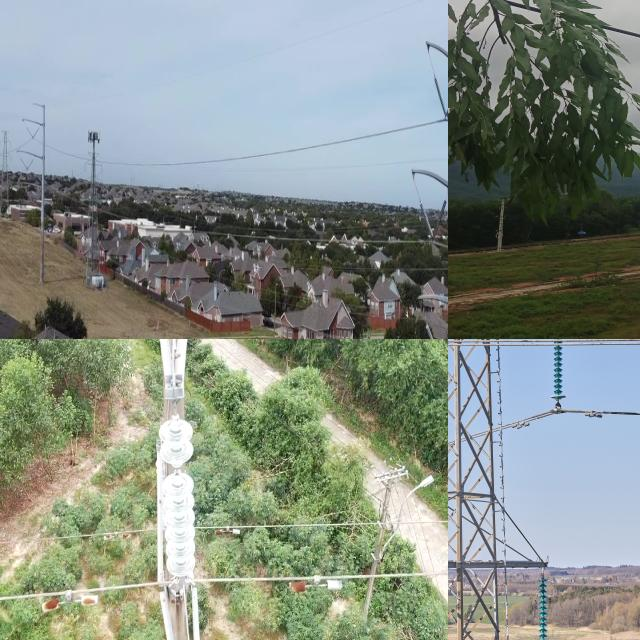杆塔: (448, 339, 520, 640), (81, 125, 107, 291), (0, 124, 13, 220)
植被遮挡: (448, 0, 640, 221)
正常电缆: (209, 564, 448, 592), (211, 511, 448, 533), (448, 407, 558, 450), (0, 575, 152, 604), (0, 521, 153, 549), (563, 408, 640, 417)
正常绝缘子: (156, 401, 201, 597), (548, 339, 579, 407), (423, 193, 448, 256), (535, 573, 556, 640), (414, 186, 436, 248), (427, 63, 448, 125), (417, 307, 435, 339), (439, 311, 448, 339), (441, 95, 448, 129), (84, 162, 86, 173), (101, 164, 103, 175), (10, 141, 12, 151)
绝缘子破损: (170, 464, 182, 477)
